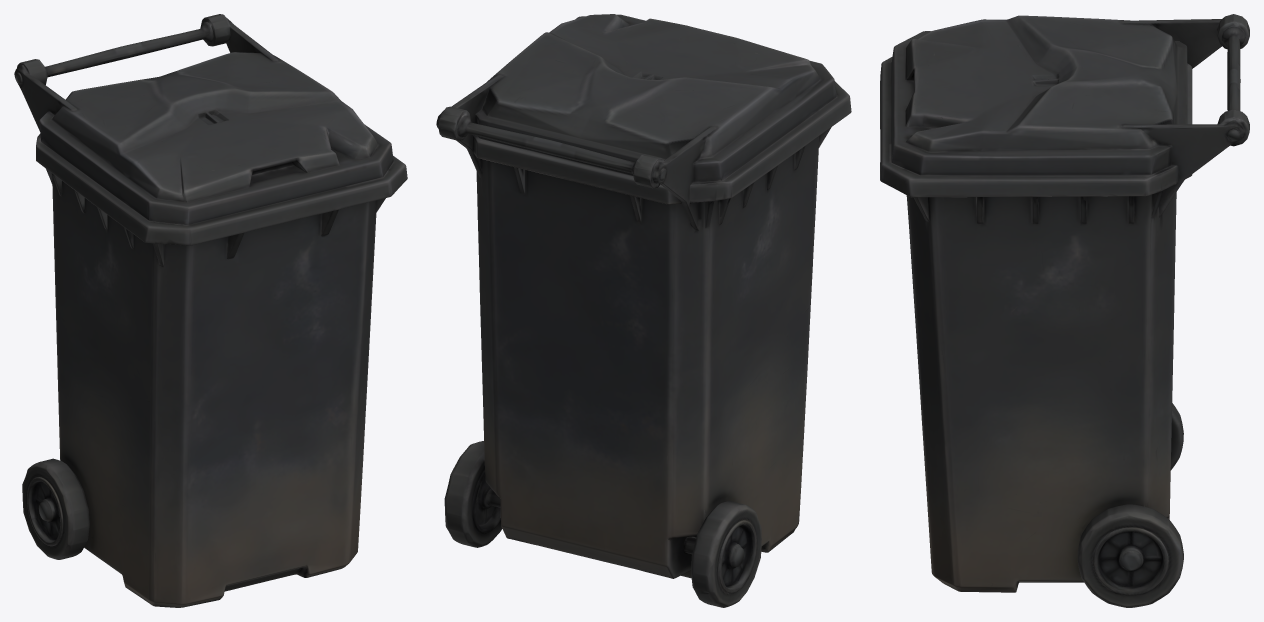
The model's file is prop_wheelie_bin.glb.
The picture shows the model from 3 angles, left to right: view 1: azimuth 30°, elevation 25°; view 2: azimuth 150°, elevation 25°; view 3: azimuth 270°, elevation 25°; orthographic projection. The views are drawn at different scales.
Visible parts, largest first — view 1: node_0; view 2: node_0; view 3: node_0.
Boxes of the visible parts, bbox=[...] form: node_0: bbox=[14, 14, 407, 607]; node_0: bbox=[436, 14, 851, 607]; node_0: bbox=[880, 14, 1249, 607].
Size of the model in its own units: 0.5699 by 0.9377 by 0.6562.
Materials: 1 (1 with a texture image).
